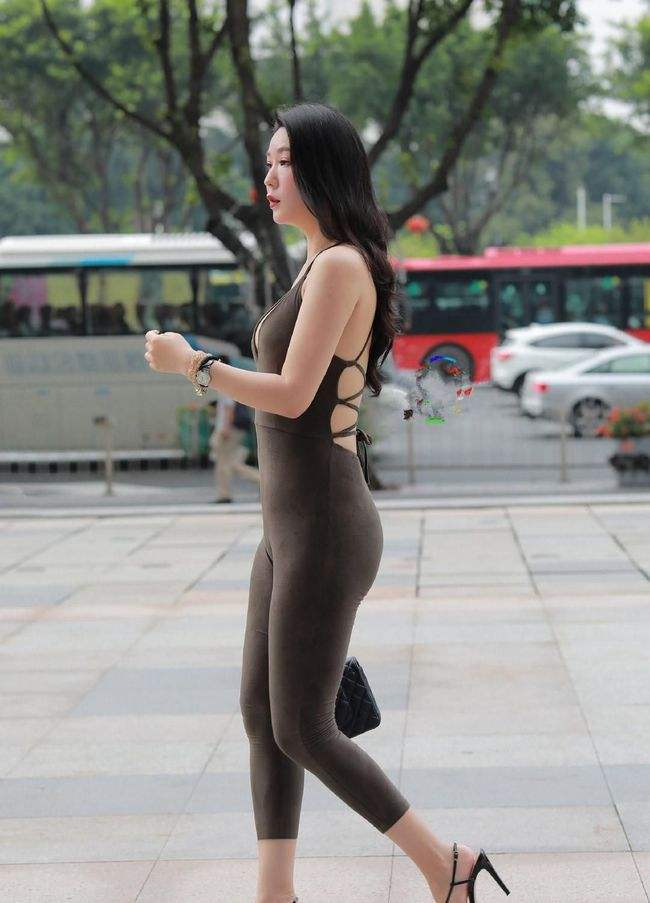person: (169, 95, 507, 825)
